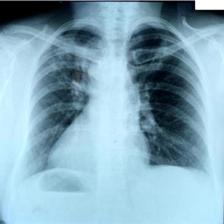tuberculosis: (19, 20, 212, 188)
